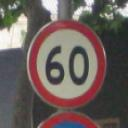speed_limit_60: (27, 19, 108, 108)
